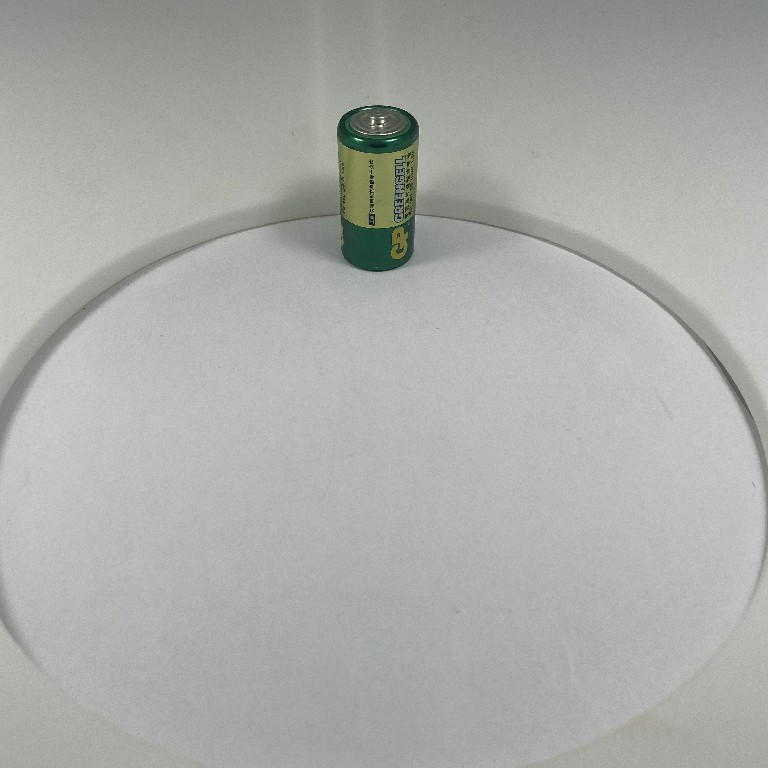charge: (334, 100, 422, 274)
